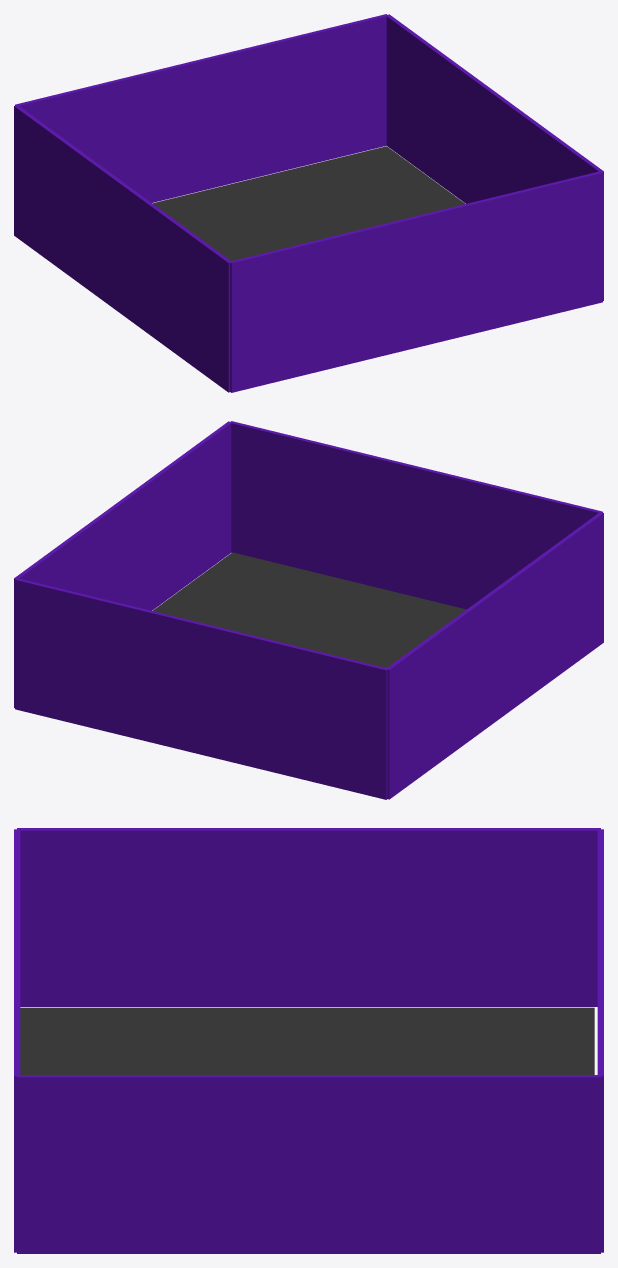
The model's file is bedroom.glb.
The picture shows the model from 3 angles, top to bottom: view 1: azimuth 30°, elevation 25°; view 2: azimuth 150°, elevation 25°; view 3: azimuth 270°, elevation 25°; orthographic projection. The views are drawn at different scales.
Parts seen in each view (by area): view 1: Plane, Cube.003, Cube.002, Cube, Cube.011, Cube.010, Cube.005, Cube.006, Cube.007, Cube.014, Cube.009, Cube.013 (+2 smaller); view 2: Plane, Cube.008, Cube.010, Cube.002, Cube, Cube.009, Cube.011, Cube.007, Cube.006, Cube.005, Cube.012, Cube.013 (+2 smaller); view 3: Plane, Cube.006, Cube.013, Cube.014, Cube.012, Cube.007, Cube.005, Cube, Cube.011, Cube.002, Cube.003, Cube.010.
Part boxes in pixels (x1,y1,x2,y2): Plane: [152, 146, 464, 260]; Cube.003: [230, 231, 355, 392]; Cube.002: [353, 201, 479, 362]; Cube: [477, 171, 602, 332]; Cube.011: [264, 14, 387, 175]; Cube.010: [201, 29, 326, 190]; Cube.005: [157, 209, 230, 392]; Cube.006: [85, 157, 160, 339]; Cube.007: [14, 105, 88, 287]; Cube.014: [386, 14, 460, 196]; Cube.009: [79, 59, 202, 202]; Cube.013: [457, 67, 531, 203]; Plane: [153, 552, 466, 667]; Cube.008: [262, 638, 387, 799]; Cube.010: [76, 593, 202, 754]; Cube.002: [353, 451, 478, 609]; Cube: [230, 421, 354, 581]; Cube.009: [200, 623, 325, 783]; Cube.011: [15, 578, 139, 739]; Cube.007: [386, 616, 460, 799]; Cube.006: [457, 564, 532, 746]; Cube.005: [529, 512, 603, 694]; Cube.012: [157, 421, 231, 603]; Cube.013: [86, 474, 160, 610]; Plane: [20, 1007, 594, 1074]; Cube.006: [211, 828, 406, 1006]; Cube.013: [211, 1075, 406, 1253]; Cube.014: [406, 1075, 600, 1253]; Cube.012: [17, 1075, 211, 1253]; Cube.007: [406, 828, 600, 1006]; Cube.005: [17, 828, 211, 1006]; Cube: [14, 994, 20, 1252]; Cube.011: [597, 1035, 603, 1252]; Cube.002: [14, 911, 20, 993]; Cube.003: [14, 829, 20, 911]; Cube.010: [597, 952, 603, 1034].
Size of the model in its own units: 6.06 by 2 by 6.06.
